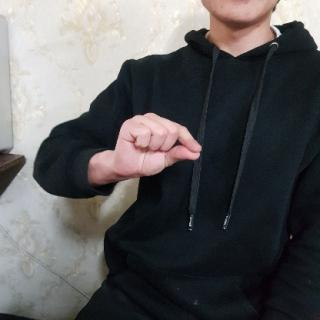FAA: (109, 111, 204, 184)
